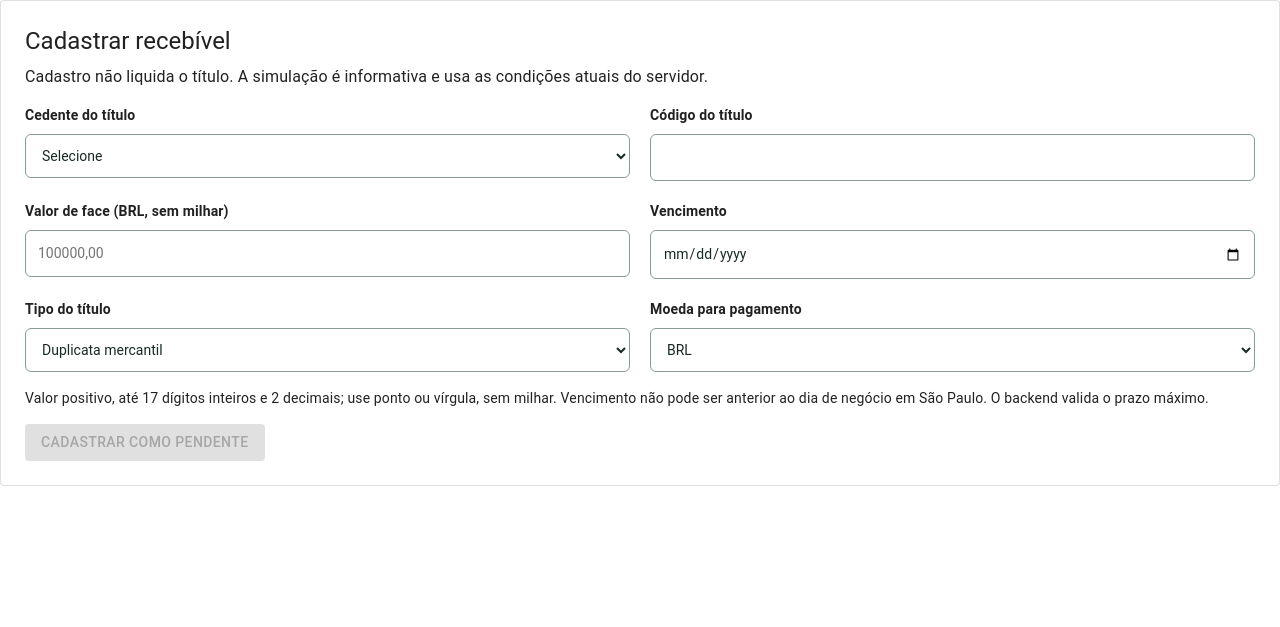
renders server field errors without losing the draft
Select "CED-001 · Teste" in the dropdown labelled "Cedente do título" at (328, 156), box [25,134,630,178]
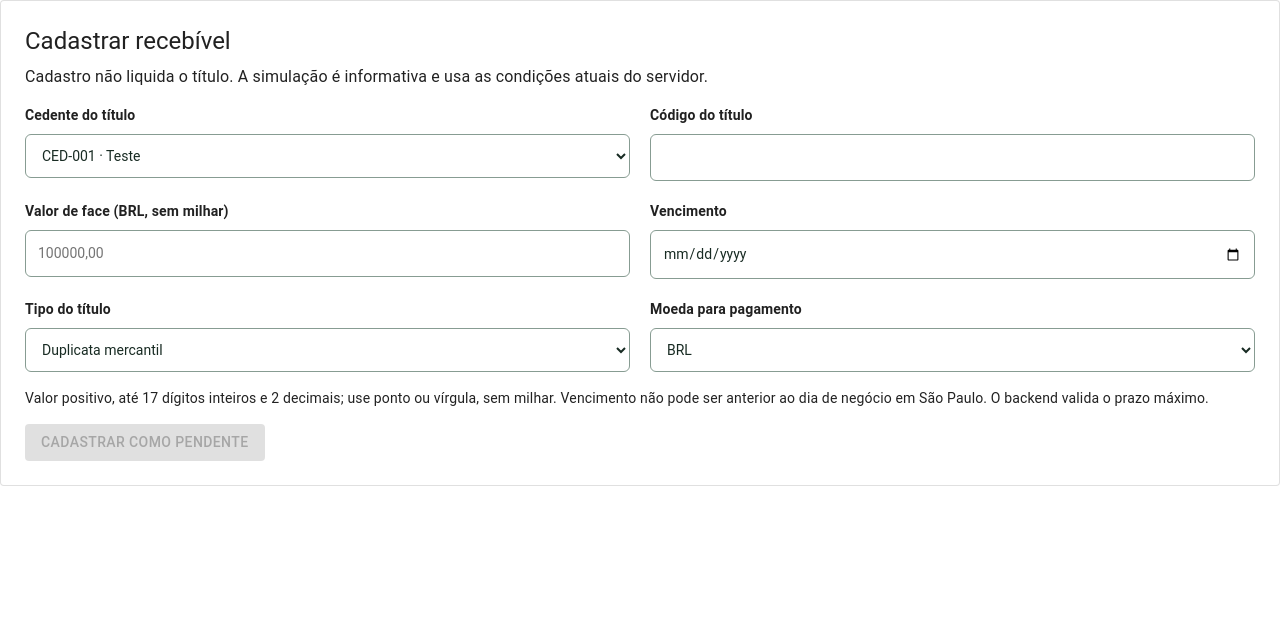
Type "T-001" into the field labelled "Código do título" at (952, 158), box [650,134,1255,181]
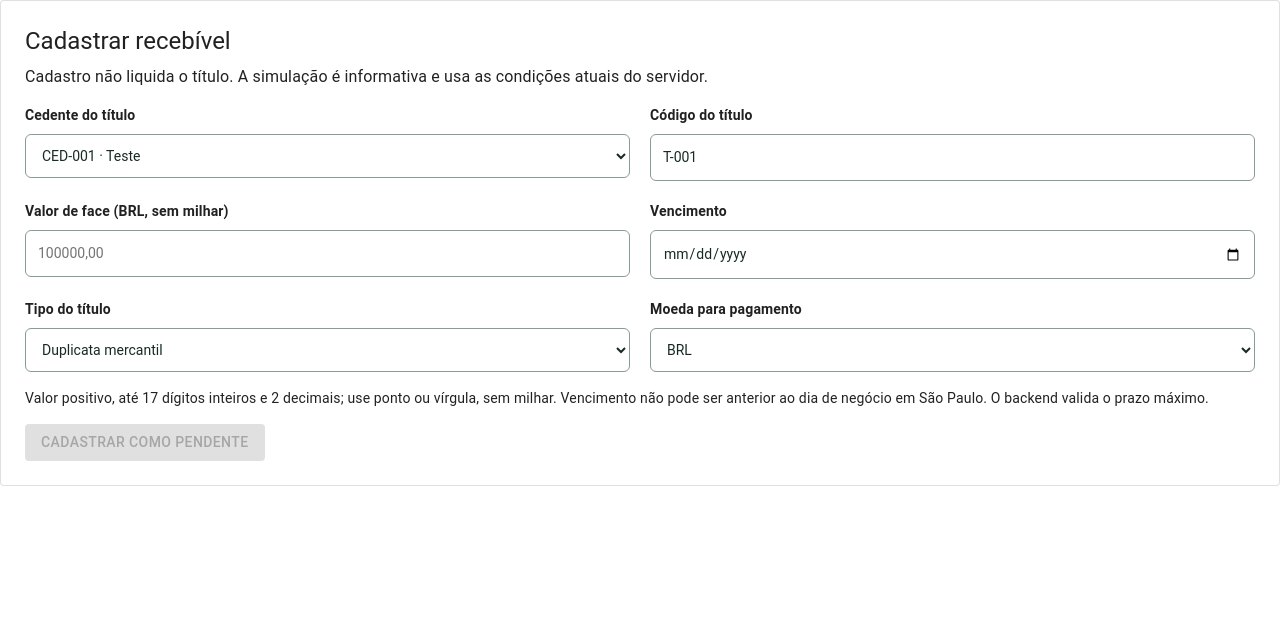
Type "100,00" into the field labelled "Valor de face (BRL, sem milhar)" at (328, 254), box [25,230,630,277]
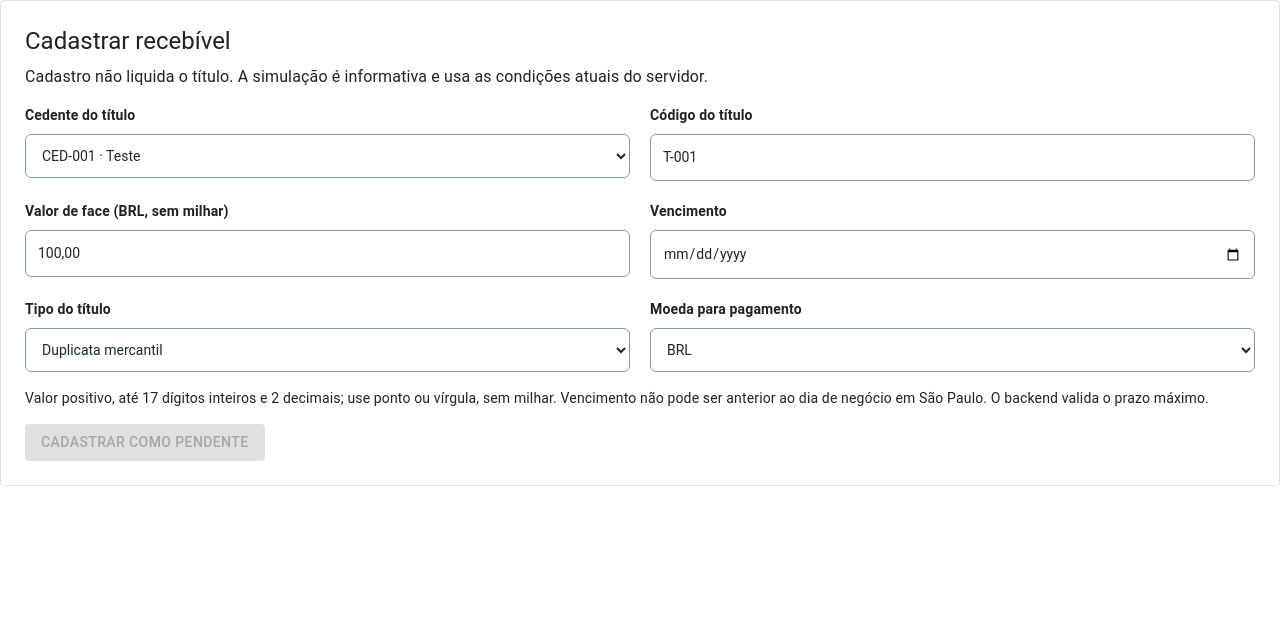
Type "2026-12-15" into the date field labelled "Vencimento" at (952, 254), box [650,230,1255,279]
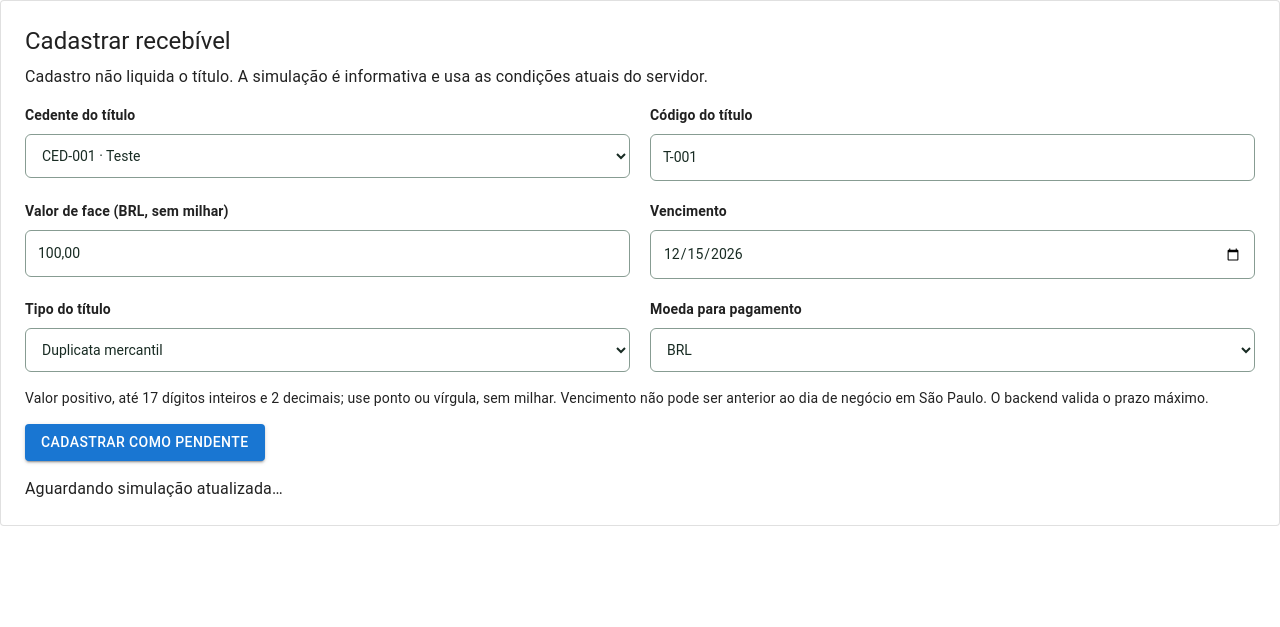
Click the button "Cadastrar como pendente" at (145, 442), box [25,424,264,460]
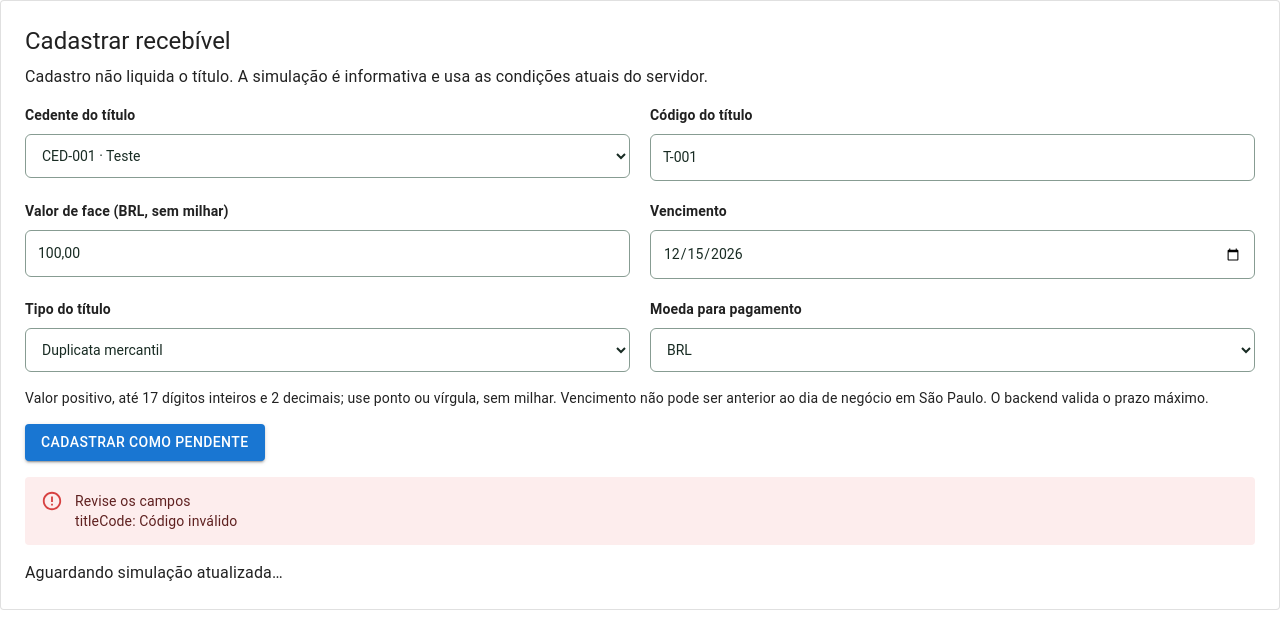
Expected: the text "titleCode: Código inválido" is shown, [75,510,237,530]
